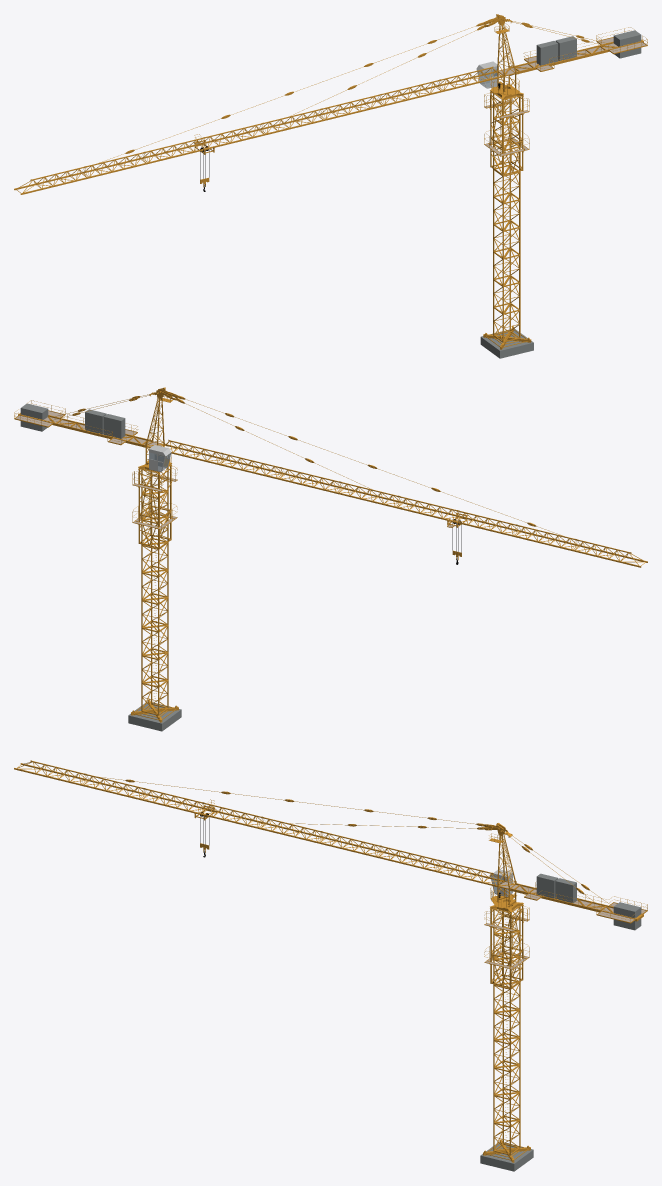
3 renders of one model, top to bottom at view 1: azimuth 30°, elevation 25°; view 2: azimuth 150°, elevation 25°; view 3: azimuth 330°, elevation 25°, orthographic.
Visible parts, largest first — view 1: JJ_tadiao; view 2: JJ_tadiao; view 3: JJ_tadiao.
Part boxes in pixels (bbox=[...]): JJ_tadiao: bbox=[14, 14, 647, 358]; JJ_tadiao: bbox=[14, 387, 647, 731]; JJ_tadiao: bbox=[14, 760, 647, 1171].
Size of the model in its own units: 6182 by 3177 by 339.
